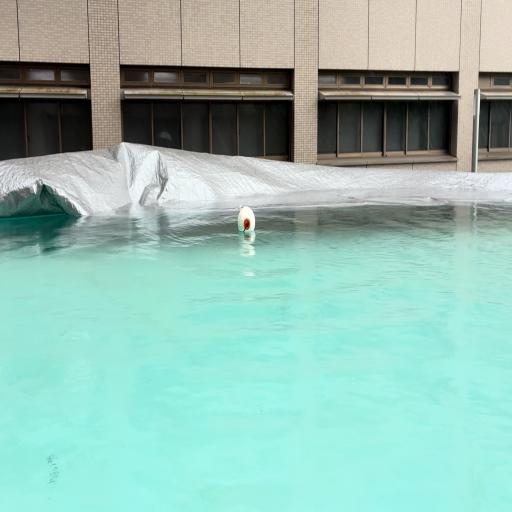white buoy: (238, 206, 255, 233)
